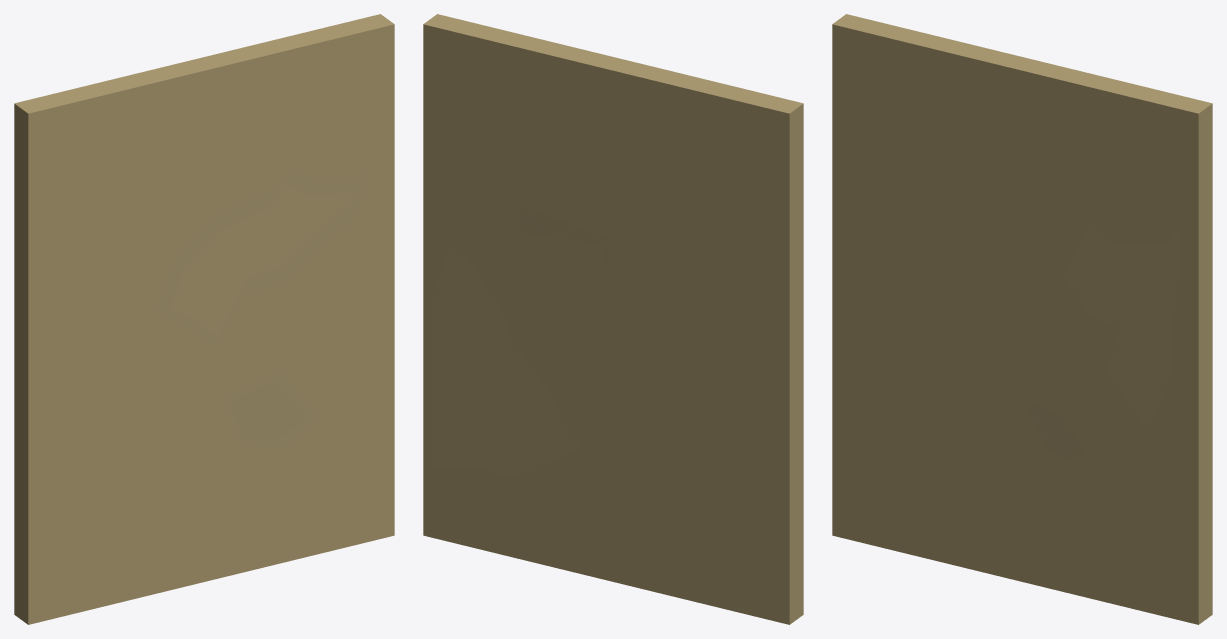
Rendered from wall-1 (DoNotUse).fbx.
3 views of the same model, side by side, from view 1: azimuth 30°, elevation 25°; view 2: azimuth 150°, elevation 25°; view 3: azimuth 330°, elevation 25° (orthographic).
Visible parts, largest first — view 1: pCube12; view 2: pCube12; view 3: pCube12.
Boxes of the visible parts, x1,y1,x2,y2 form: pCube12: [14, 14, 394, 624]; pCube12: [423, 14, 803, 624]; pCube12: [832, 14, 1212, 624].
Bounding box in the file's own units: 15 × 20 × 1.14.
